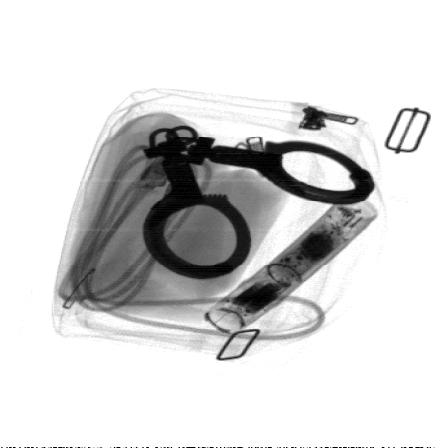Baton: (203, 192, 381, 336)
HandCuffs: (141, 124, 376, 281)
